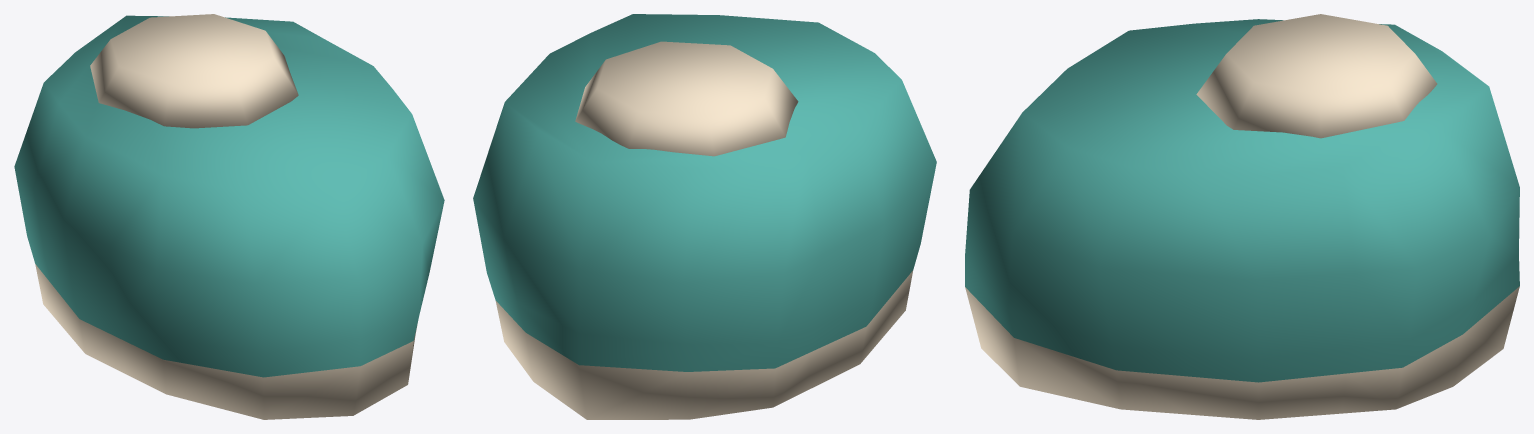
The model's file is IceShoe.fbx.
3 renders of one model, left to right at view 1: azimuth 30°, elevation 25°; view 2: azimuth 150°, elevation 25°; view 3: azimuth 270°, elevation 25°, orthographic. The views are drawn at different scales.
Visible parts, largest first — view 1: Shoe; view 2: Shoe; view 3: Shoe.
Boxes of the visible parts, <box> form: Shoe: <box>14,14,444,419</box>; Shoe: <box>473,14,936,419</box>; Shoe: <box>965,14,1519,419</box>.
Size of the model in its own units: 39.24 by 29.19 by 50.66.
